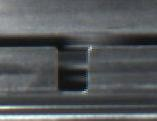oneu: (52, 41, 96, 97)
